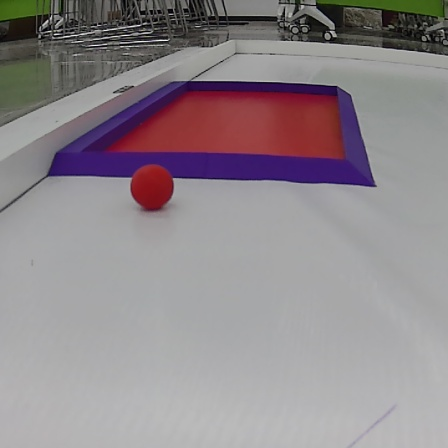red: (129, 165, 175, 209)
red_aim: (87, 72, 382, 187)
